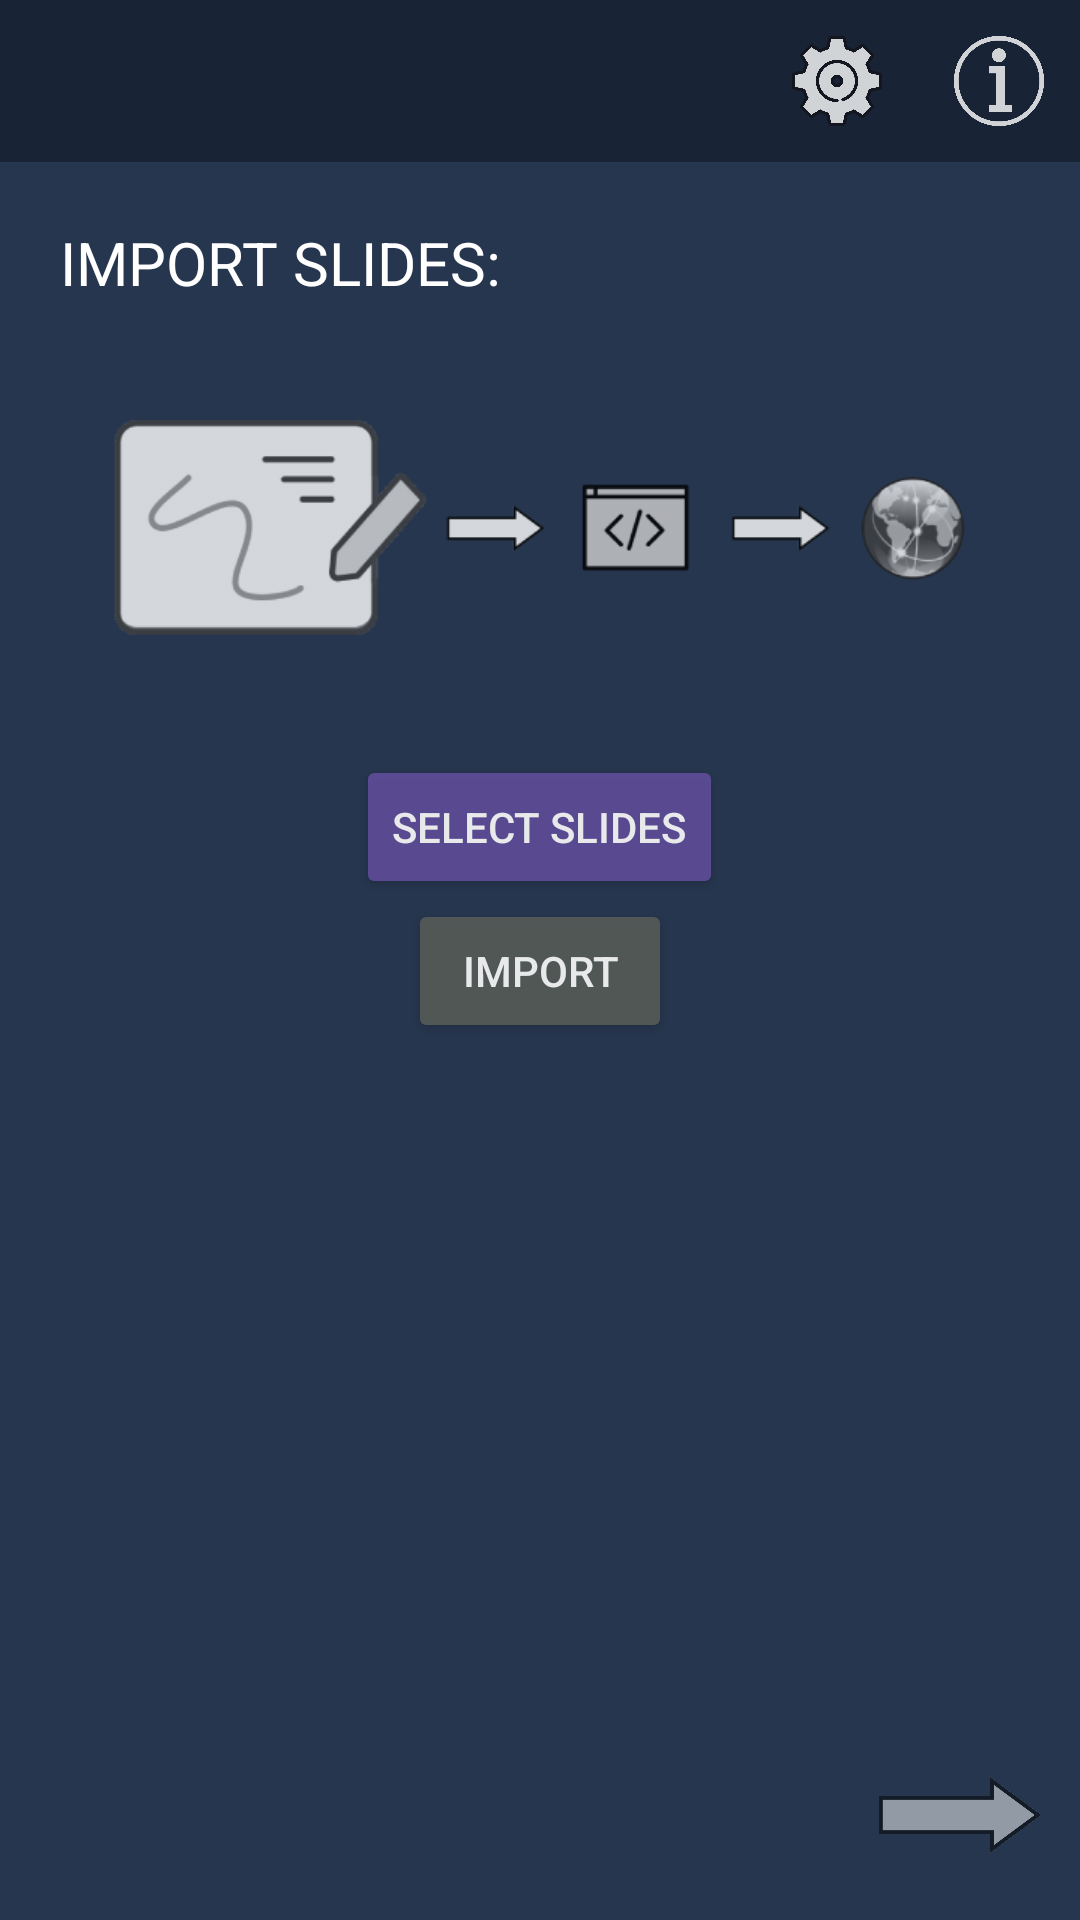

Where to tap for icons on this 1080x1920 app screen, as [x,y]:
arrow: [959,1815]
infobox: [999,81]
settings: [837,81]
